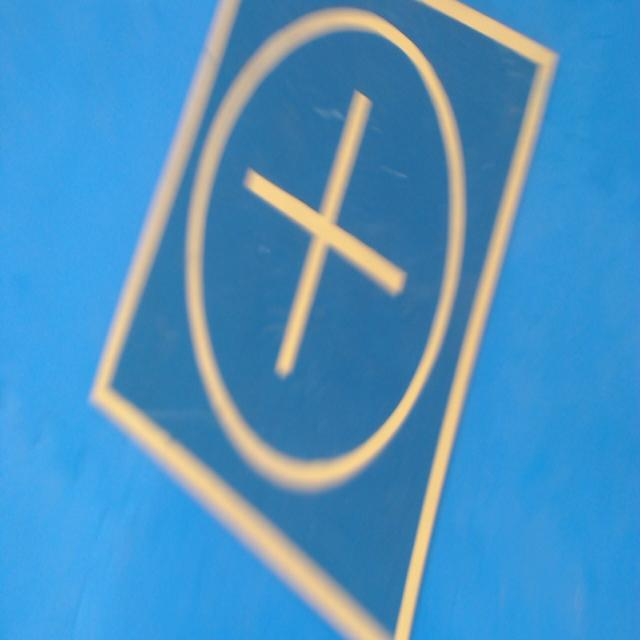base_pouso: (85, 0, 559, 639)
